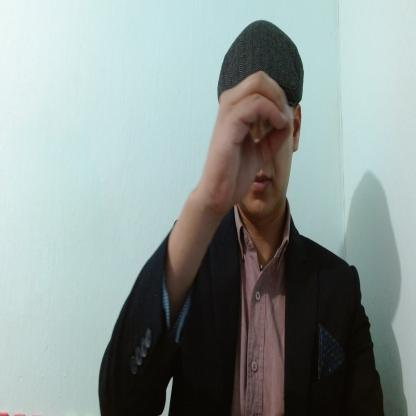O: (203, 66, 295, 214)
